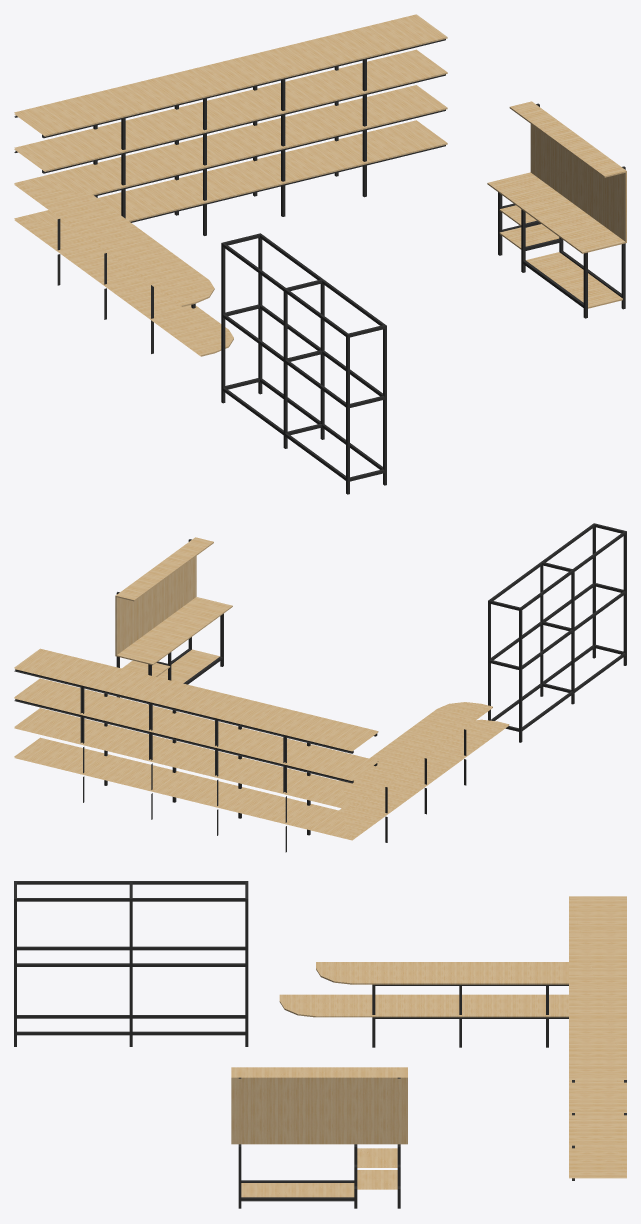
File: GarageFurniture.fbx
3 renders of one model, top to bottom at view 1: azimuth 30°, elevation 25°; view 2: azimuth 150°, elevation 25°; view 3: azimuth 270°, elevation 25°, orthographic. The views are drawn at different scales.
Parts seen in each view (by area): view 1: Shelving For Garage, Table For Garage, Shelvin For Wheels; view 2: Shelving For Garage, Table For Garage, Shelvin For Wheels; view 3: Shelving For Garage, Table For Garage, Shelvin For Wheels.
Part boxes in pixels (left/top/right/bottom): Shelving For Garage: left=14, top=14, right=447, bottom=356; Table For Garage: left=487, top=101, right=626, bottom=318; Shelvin For Wheels: left=221, top=233, right=386, bottom=494; Shelving For Garage: left=14, top=648, right=509, bottom=852; Table For Garage: left=115, top=537, right=232, bottom=704; Shelvin For Wheels: left=488, top=523, right=626, bottom=742; Shelving For Garage: left=279, top=896, right=626, bottom=1180; Table For Garage: left=231, top=1067, right=407, bottom=1208; Shelvin For Wheels: left=14, top=881, right=248, bottom=1046.
Bounding box in the file's own units: 596 × 226 × 847.
